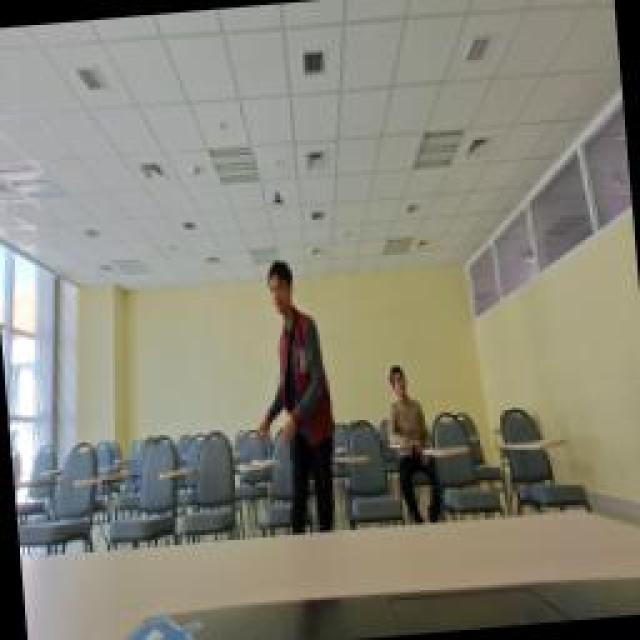study: (382, 362, 430, 448)
